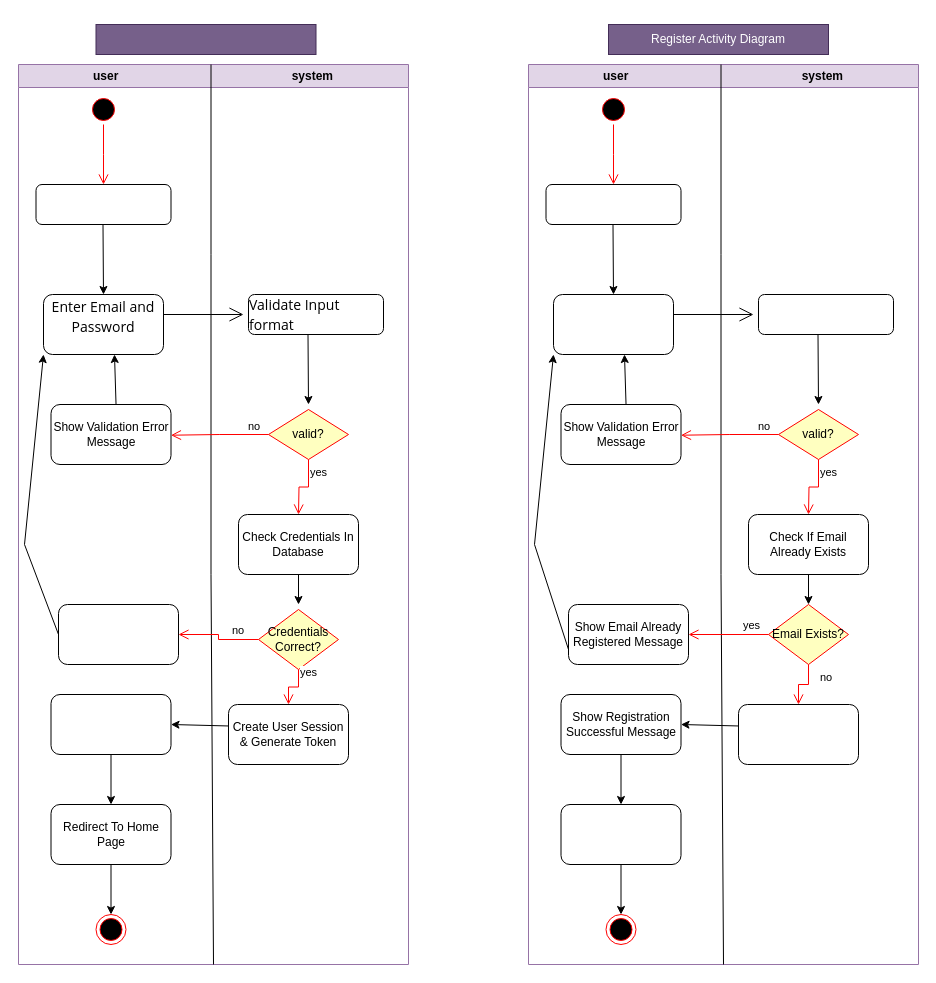
Image size: 936x983. Some labels were removed from this diagram. Each missing label, with the centre of its shape:
"Create New User Account & Save To Database" belongs at [798,734].
"Fill Registration Form (Name, Email, Password, Phone, ...)" belongs at [613,324].
"Login Activity Diagram" belongs at [205,39].
"Open Login Page" belongs at [103,204].
"Open Register Page" belongs at [613,204].
"Redirect To Login Page" belongs at [620,834].
"Show Login Failed Message" belongs at [118,634].
"Show Successful Login Message" belongs at [110,724].
"Validate Input Format & Requirements" belongs at [826,314].
